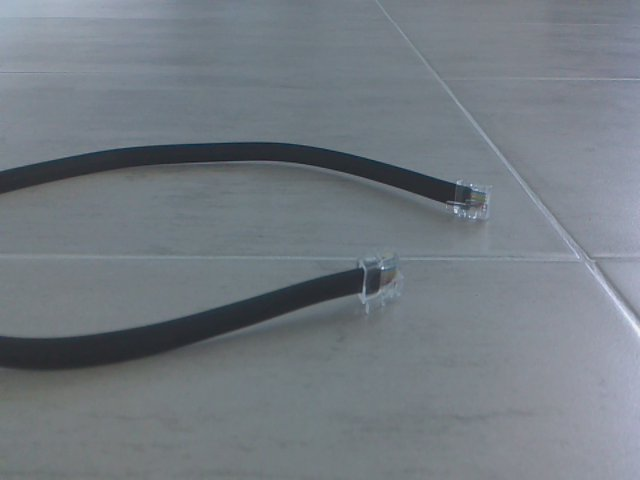Kabel: (3, 139, 495, 376)
